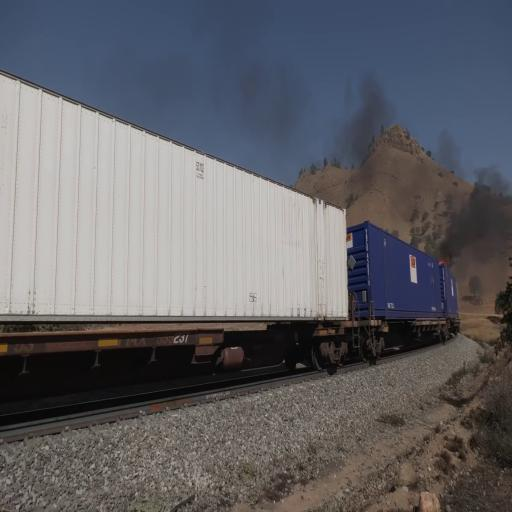smoke: (437, 180, 493, 270)
